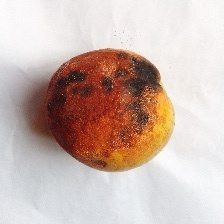guava: (5, 5, 193, 181)
